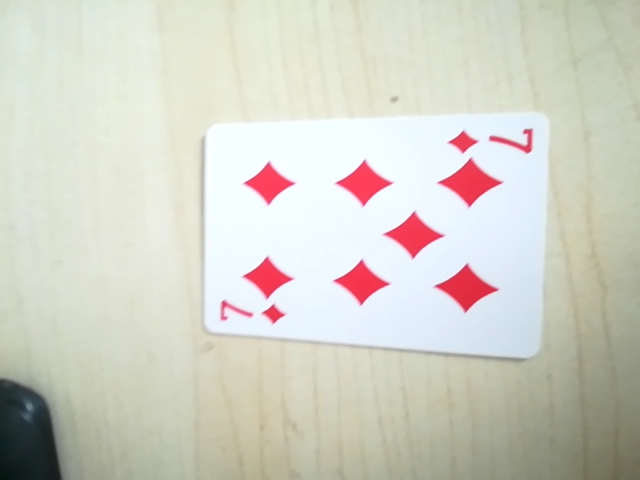fk 7: (445, 120, 541, 162), (211, 296, 290, 333)
